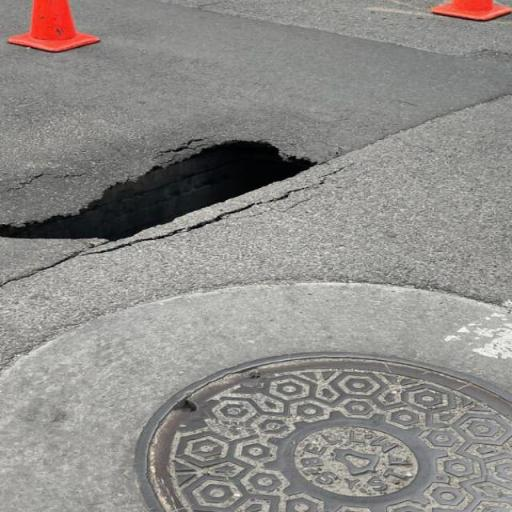Concentric_Crack: (1, 141, 313, 240)
